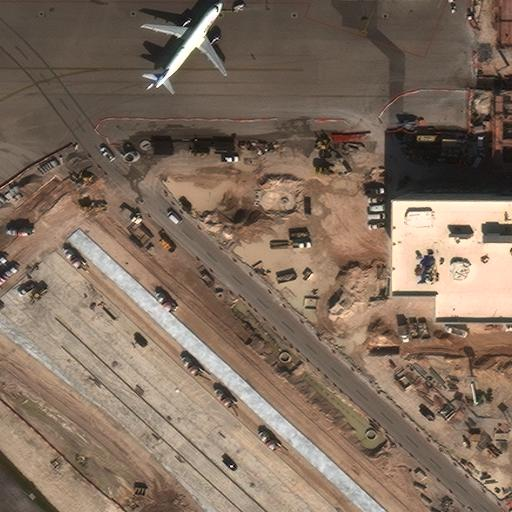Medium Civil Transport: (143, 2, 227, 88)
